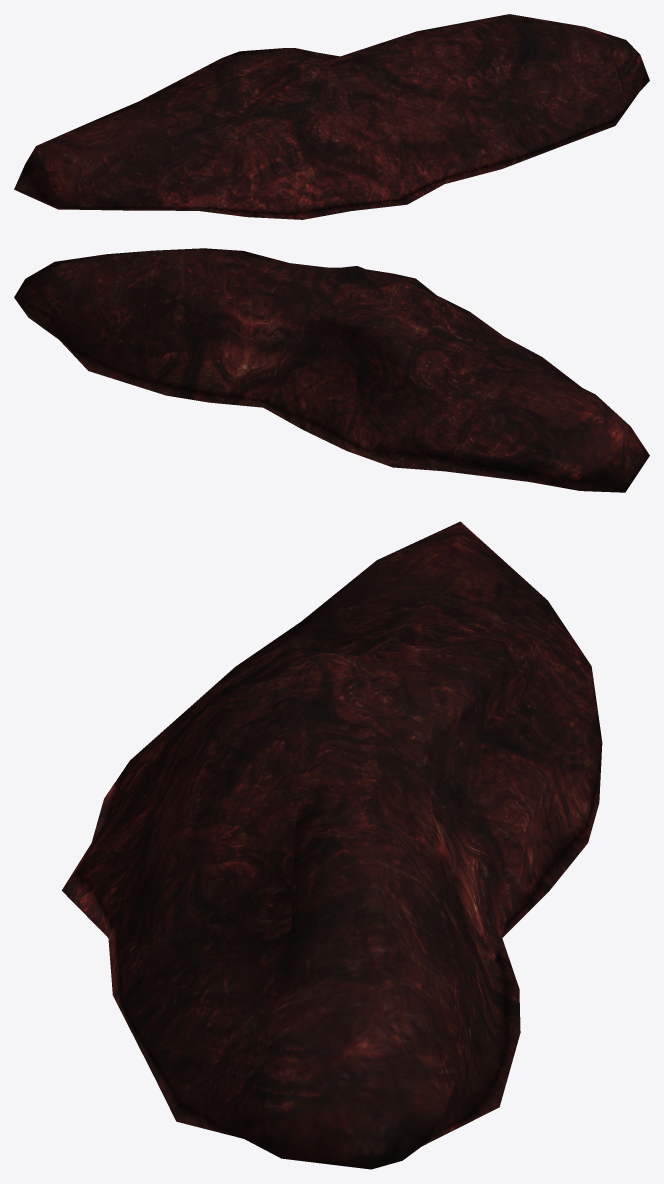
Rendered from torn_dried_flesh_1.dae.
3 views of the same model, one above another, from view 1: azimuth 30°, elevation 25°; view 2: azimuth 150°, elevation 25°; view 3: azimuth 270°, elevation 25° (orthographic). The views are drawn at different scales.
Visible parts, largest first — view 1: Mesh; view 2: Mesh; view 3: Mesh.
Part boxes in pixels (left/top/right/bottom): Mesh: left=14, top=14, right=649, bottom=219; Mesh: left=14, top=248, right=649, bottom=492; Mesh: left=62, top=521, right=602, bottom=1169.
Bounding box in the file's own units: 0.6767 × 0.1195 × 0.2697.
